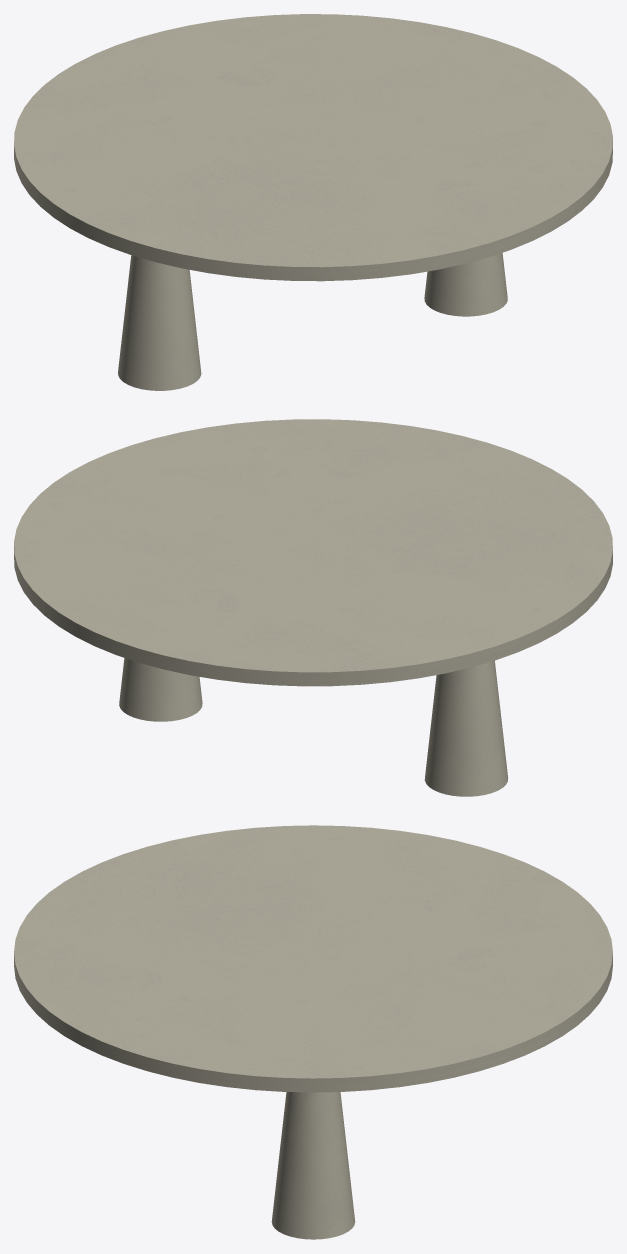
The model's file is silk_oval_standard_pebble.glb.
3 renders of one model, top to bottom at view 1: azimuth 30°, elevation 25°; view 2: azimuth 150°, elevation 25°; view 3: azimuth 270°, elevation 25°, orthographic.
Parts seen in each view (by area): view 1: silk_ovalstandard_pebble; view 2: silk_ovalstandard_pebble; view 3: silk_ovalstandard_pebble.
Part boxes in pixels (x1,y1,x2,y2): silk_ovalstandard_pebble: (14,14,612,390); silk_ovalstandard_pebble: (14,419,612,796); silk_ovalstandard_pebble: (14,825,612,1239).
Size of the model in its own units: 6.97 by 2.51 by 6.97.
1 material, 1 textured.
